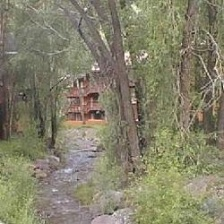neutral: (3, 1, 224, 217)
